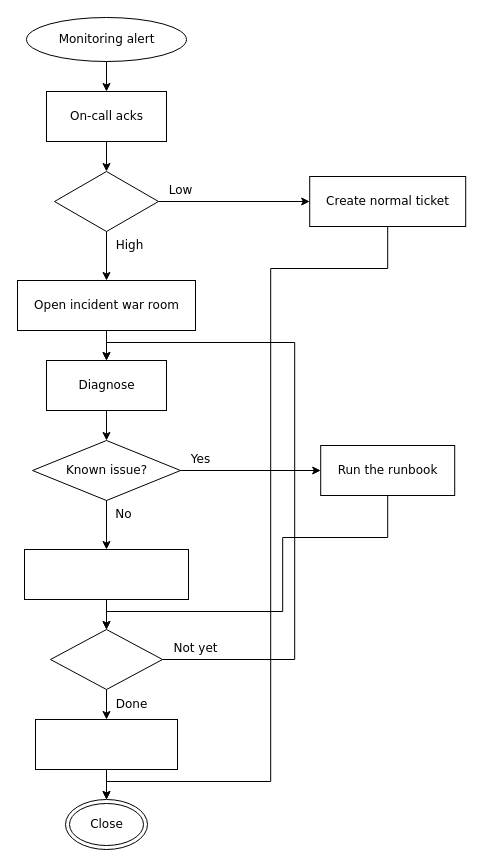
Some shapes in this 484 by 867 pixel diagram are drawn without their labels. Each missing label, with the centre of its shape:
Resolved?: [106,659]
Severity?: [106,201]
Temporary mitigation: [106,574]
Write postmortem: [106,744]
